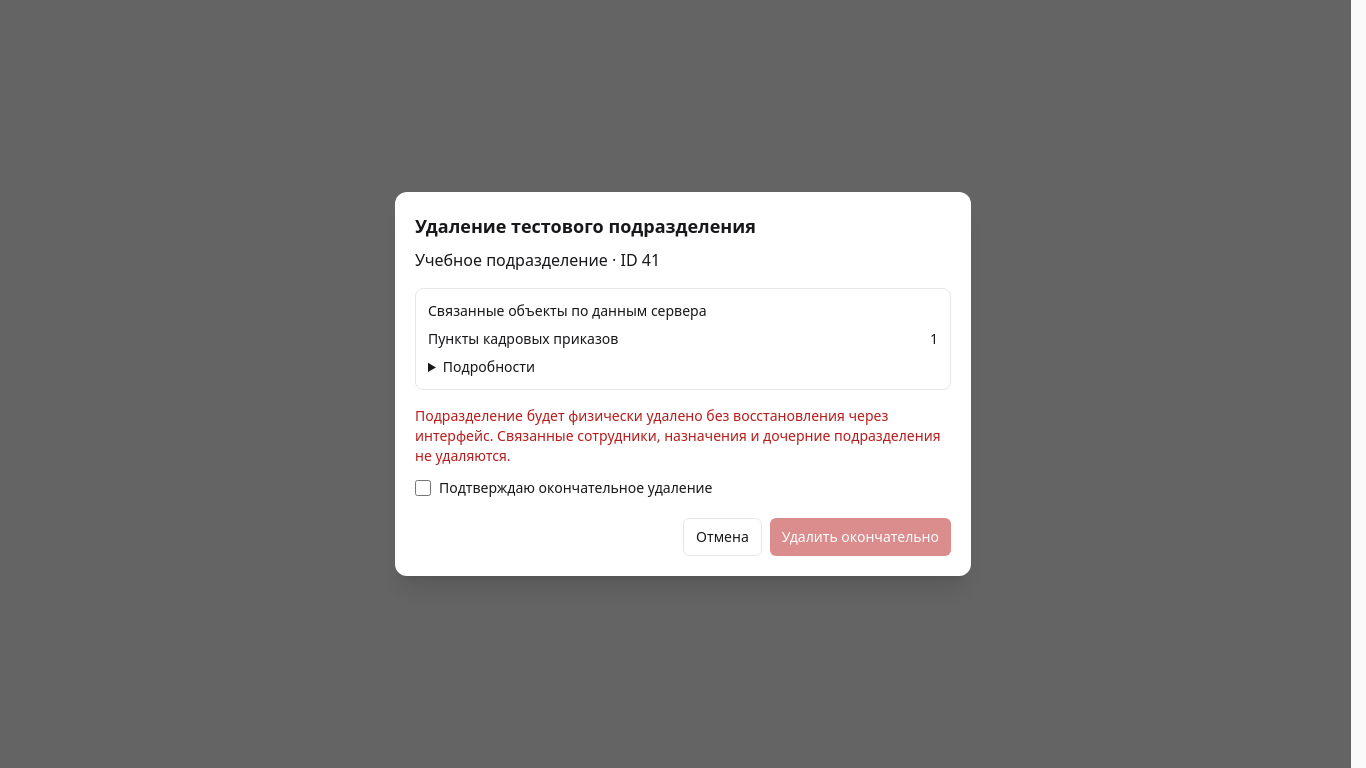
Test case: test org unit cleanup › refreshes changed dependencies and clears confirmation after a rejected delete
Click the checkbox at (423, 488), box [415, 480, 431, 496]
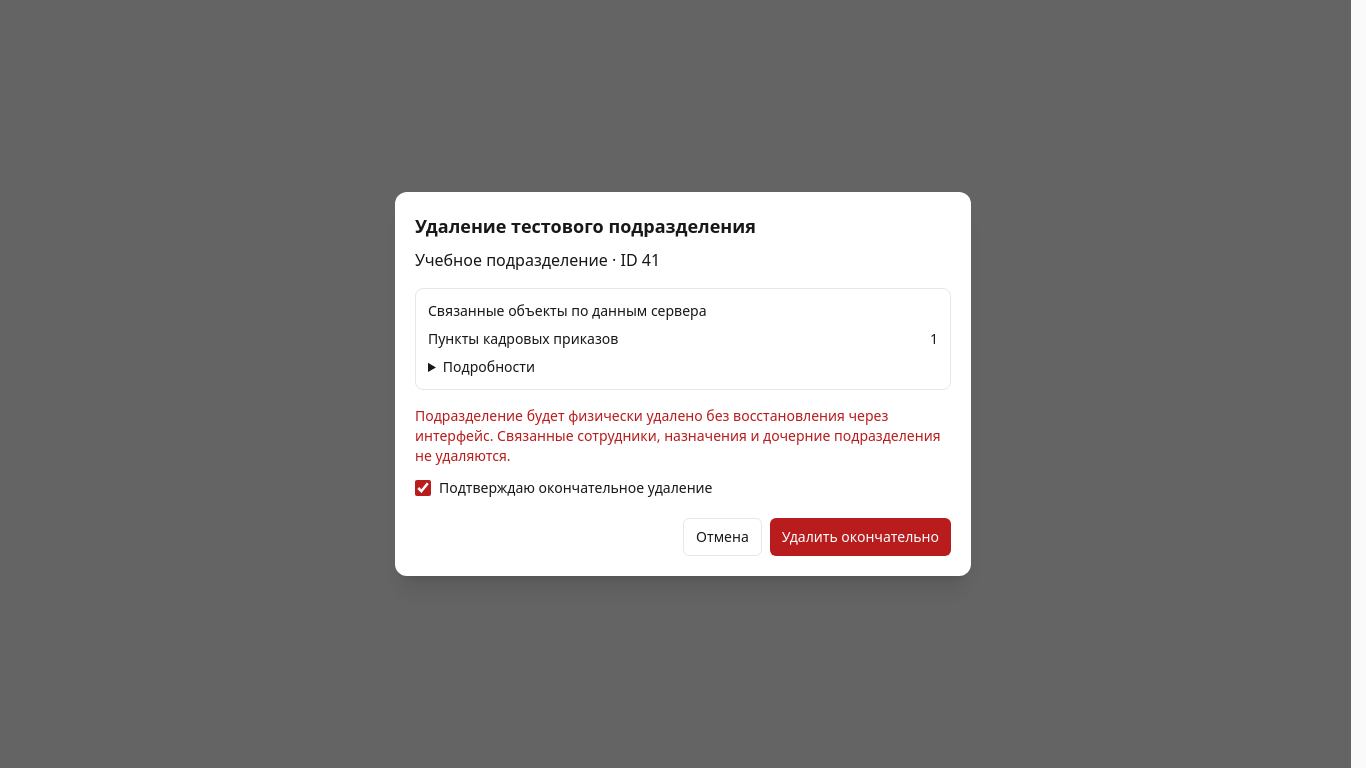
Click the button "Удалить окончательно" at (860, 537), box [770, 518, 951, 556]
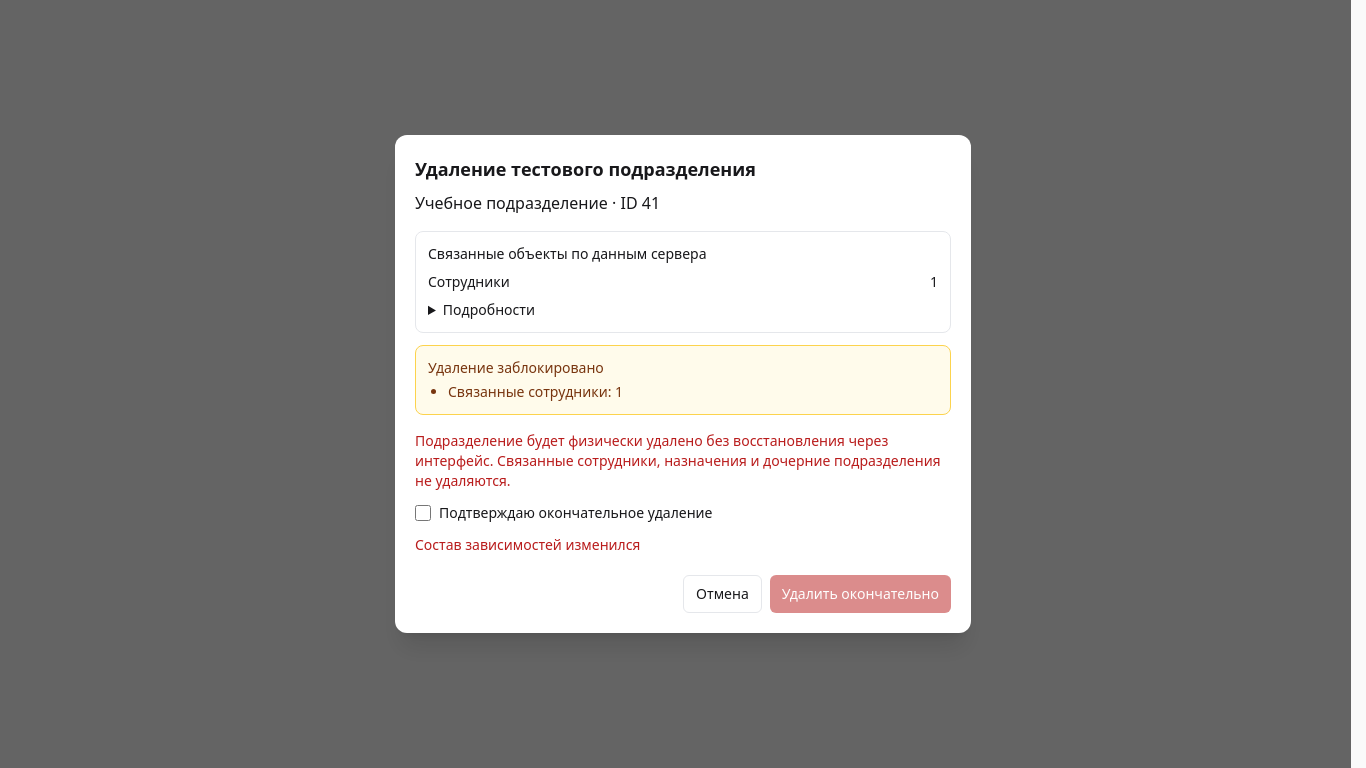
Expected: the checkbox is not checked, [415, 505, 431, 521]
Expected: the message reads "Состав зависимостей изменился", [415, 535, 640, 554]
Expected: the button "Удалить окончательно" is disabled, [770, 575, 951, 613]
